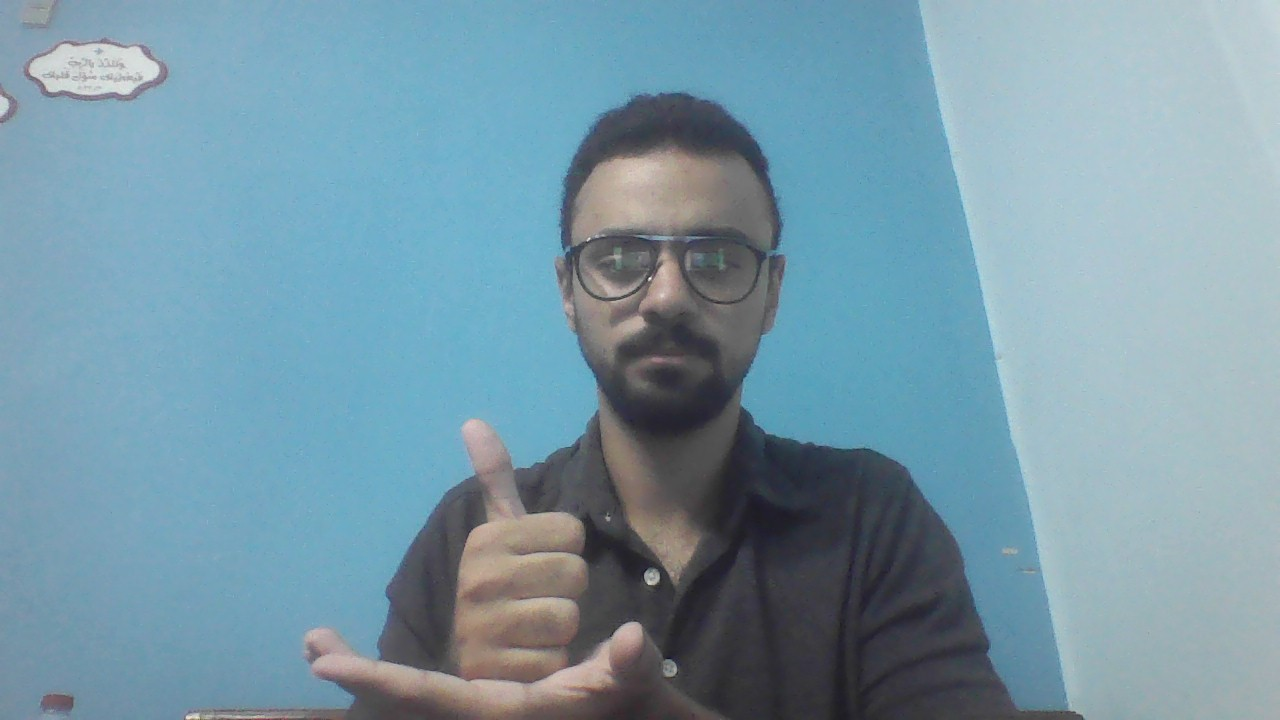help: (307, 413, 672, 715)
